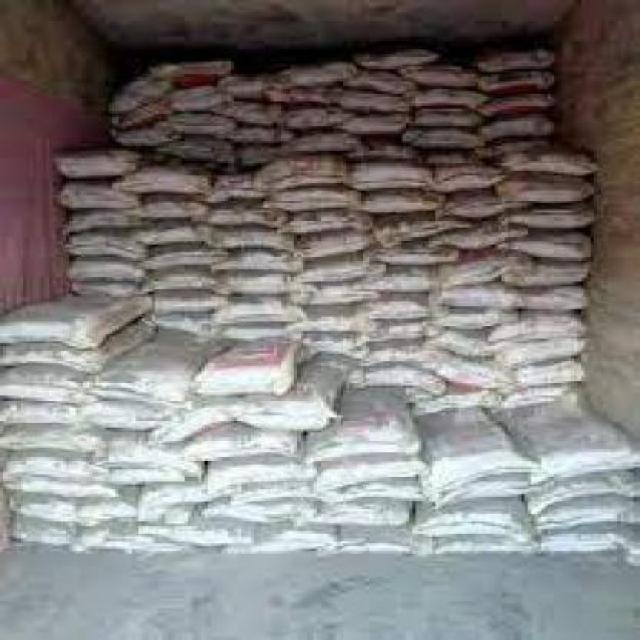gunny_bag: (428, 446, 535, 493), (182, 421, 304, 462), (7, 493, 129, 530), (313, 451, 425, 491), (523, 477, 635, 515), (7, 518, 127, 553), (142, 401, 241, 443), (241, 129, 344, 169), (137, 517, 274, 546), (8, 423, 115, 459), (102, 436, 191, 479), (431, 248, 523, 289), (419, 504, 530, 537), (435, 473, 531, 511), (486, 334, 590, 369), (80, 398, 187, 432), (115, 165, 221, 199), (311, 427, 413, 462), (204, 459, 309, 493), (533, 503, 640, 536), (533, 451, 638, 484), (416, 531, 530, 561), (234, 396, 336, 429), (495, 310, 587, 346), (268, 53, 356, 89), (413, 382, 501, 418), (538, 530, 640, 561), (202, 499, 311, 528), (0, 371, 95, 404), (53, 146, 145, 180), (254, 160, 343, 195), (282, 210, 376, 243), (498, 174, 598, 205), (92, 373, 191, 404), (438, 353, 516, 392), (134, 477, 232, 508), (0, 476, 115, 502), (358, 361, 448, 394), (309, 501, 416, 528), (319, 479, 421, 507), (379, 212, 480, 240), (204, 96, 287, 130), (506, 204, 598, 234), (192, 372, 284, 402), (503, 382, 583, 416), (229, 478, 318, 508), (108, 69, 167, 114), (513, 357, 588, 391), (398, 59, 482, 89), (0, 401, 90, 429), (486, 91, 561, 124), (299, 232, 374, 265), (0, 318, 84, 347), (69, 235, 159, 262), (354, 264, 436, 293), (505, 257, 593, 284), (112, 537, 224, 558), (501, 149, 595, 174), (297, 255, 384, 282), (482, 69, 565, 97), (486, 115, 572, 142), (289, 307, 366, 337), (297, 280, 376, 309), (341, 71, 429, 97), (369, 239, 460, 264), (359, 188, 443, 215), (226, 528, 324, 551), (425, 327, 491, 361), (209, 297, 289, 325), (152, 144, 236, 170), (2, 458, 92, 482), (170, 111, 241, 141), (8, 346, 89, 372), (57, 185, 130, 213), (484, 44, 552, 74), (321, 528, 409, 551), (426, 166, 498, 194), (513, 285, 585, 313), (134, 197, 214, 222), (404, 124, 483, 149), (366, 342, 431, 372), (216, 250, 304, 272), (147, 245, 227, 269), (267, 189, 358, 210), (441, 283, 516, 308), (348, 164, 425, 188), (338, 110, 403, 138), (152, 69, 231, 92), (343, 91, 418, 115), (436, 192, 505, 218), (264, 81, 338, 105), (358, 48, 435, 71), (110, 99, 169, 129), (202, 207, 281, 229), (438, 309, 513, 332), (130, 502, 204, 525), (69, 260, 154, 280), (69, 209, 134, 235), (361, 322, 428, 347), (212, 229, 291, 250), (451, 224, 520, 247), (411, 86, 479, 109), (413, 106, 481, 129), (135, 225, 206, 247), (374, 292, 430, 319), (147, 270, 222, 290), (144, 312, 212, 334), (438, 224, 516, 243), (284, 106, 343, 131), (213, 72, 271, 97), (301, 337, 359, 362), (349, 138, 418, 159), (226, 274, 294, 295), (110, 123, 172, 146), (145, 297, 226, 314), (521, 239, 592, 258), (67, 283, 145, 300), (170, 86, 224, 109), (211, 170, 257, 197), (425, 145, 486, 165), (244, 124, 291, 144)
